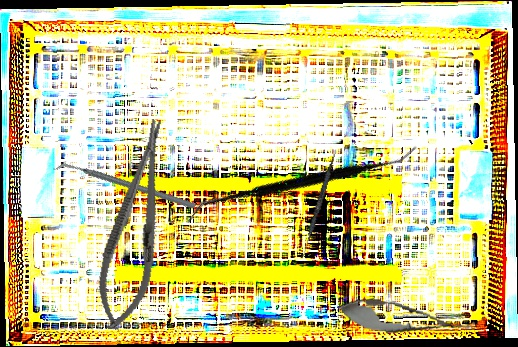Chopper: (52, 117, 198, 256)
Micro Scissor: (335, 291, 474, 346)
Needle Holder: (87, 114, 185, 336)
Spatula Surgical: (184, 64, 421, 303), (300, 148, 338, 260)
